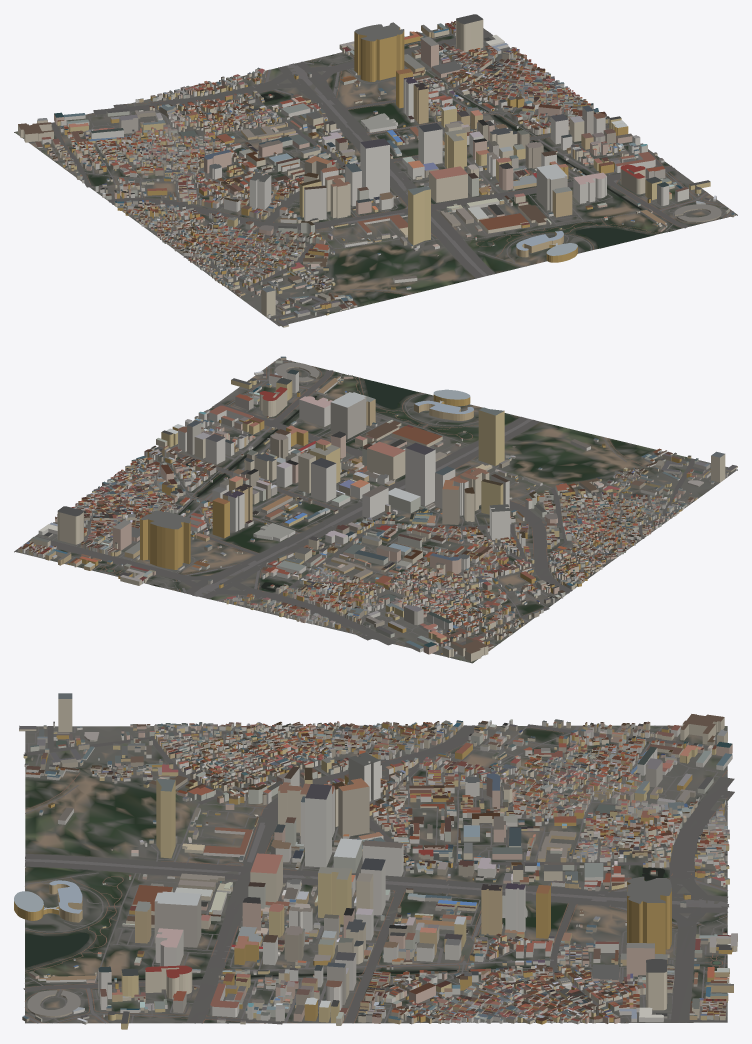
3 renders of one model, top to bottom at view 1: azimuth 30°, elevation 25°; view 2: azimuth 150°, elevation 25°; view 3: azimuth 270°, elevation 25°, orthographic. The views are drawn at different scales.
Visible parts, largest first — view 1: buildings, ground, roads, water; view 2: buildings, ground, roads, water; view 3: buildings, ground, roads, water.
Part boxes in pixels (bbox=[...]): buildings: bbox=[18, 14, 735, 327]; ground: bbox=[14, 28, 737, 325]; roads: bbox=[29, 29, 733, 326]; water: bbox=[180, 54, 673, 312]; buildings: bbox=[18, 356, 737, 661]; ground: bbox=[14, 358, 737, 663]; roads: bbox=[15, 360, 737, 654]; water: bbox=[82, 373, 702, 601]; buildings: bbox=[14, 693, 737, 1029]; ground: bbox=[25, 725, 727, 1023]; roads: bbox=[23, 724, 734, 1024]; water: bbox=[25, 740, 726, 1023].
Bounding box in the file's own units: 1437 × 155 × 1445.
